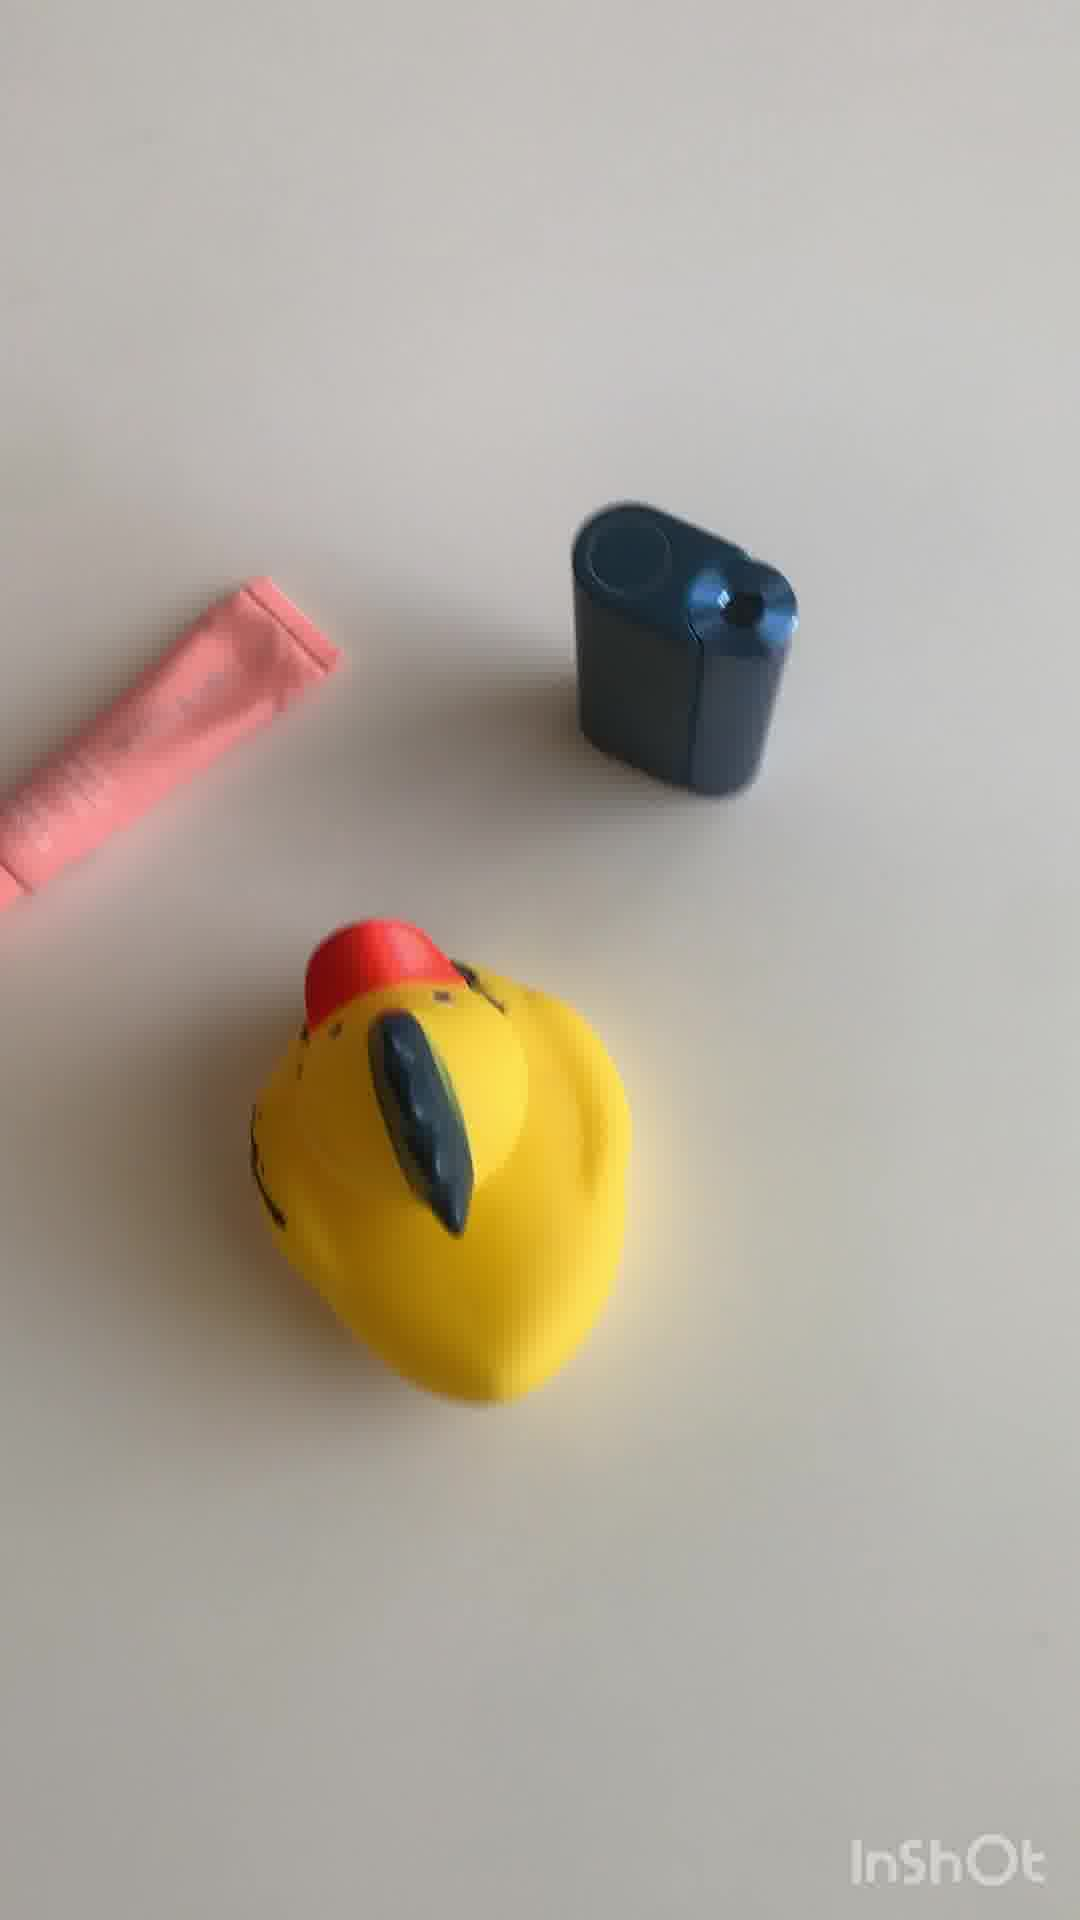duck: (239, 918, 640, 1414)
glo: (568, 498, 798, 803)
lip balm: (1, 567, 345, 923)
